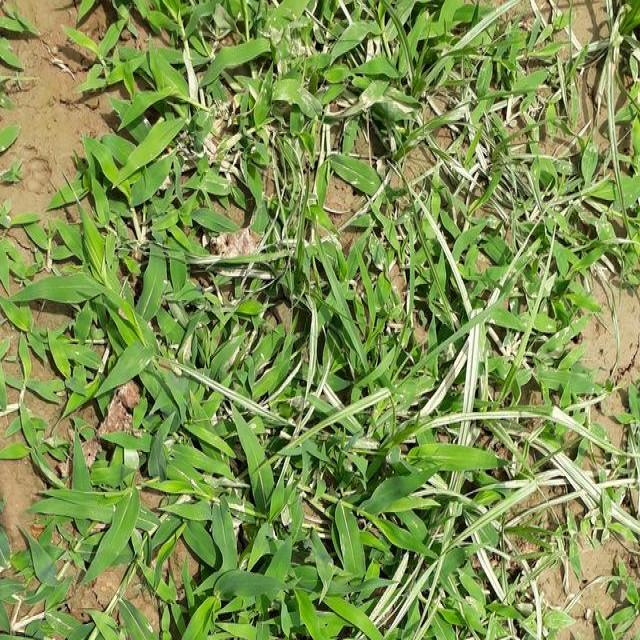weed: (36, 5, 559, 640)
